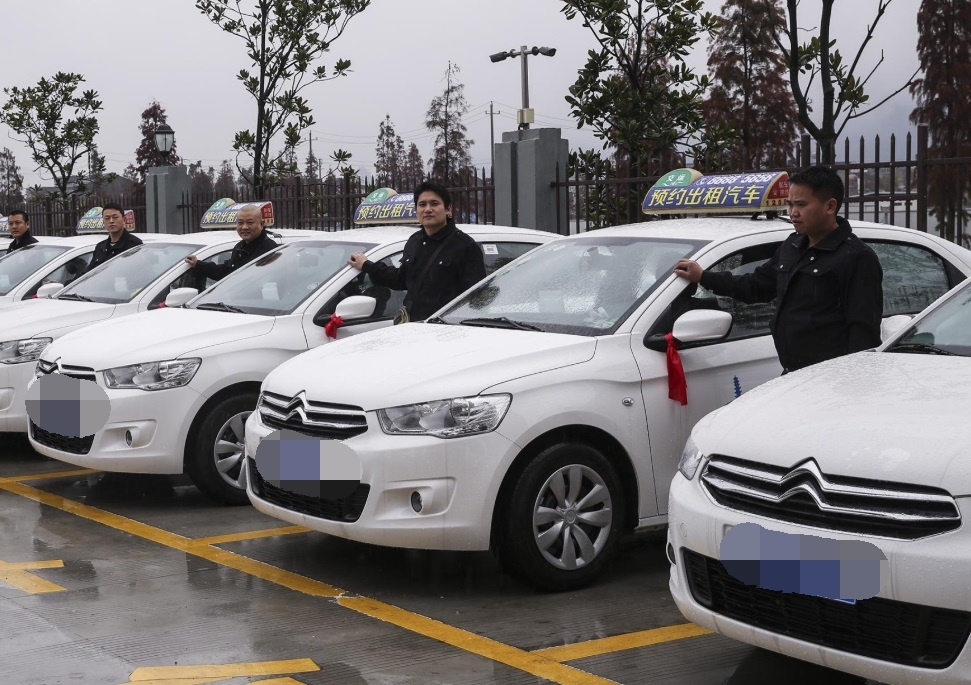taxi: (257, 206, 962, 569)
